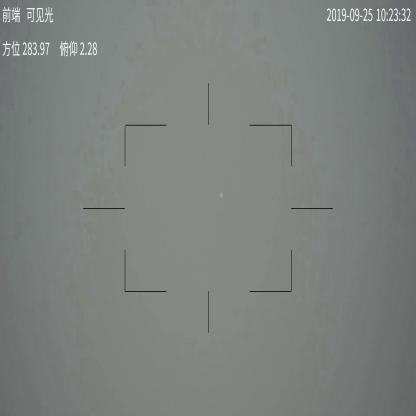uav: (218, 190, 224, 198)
